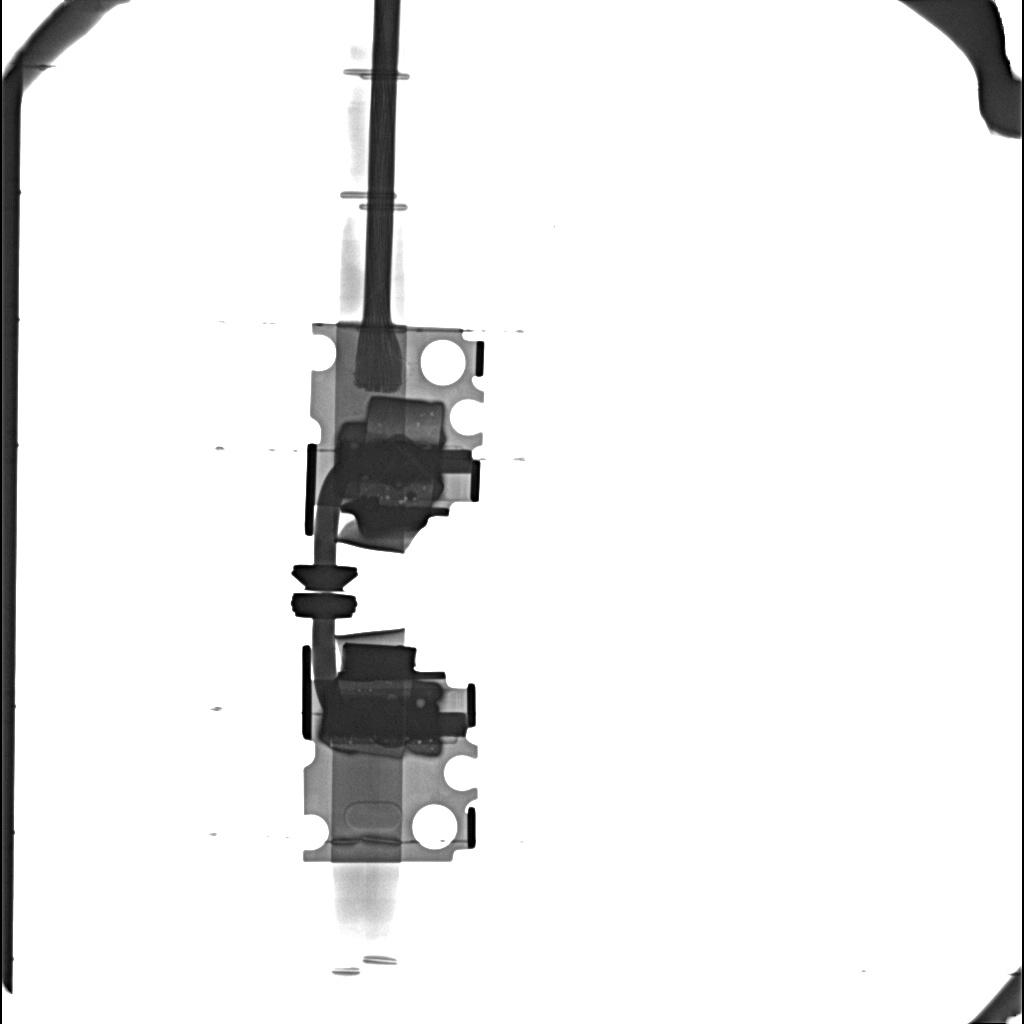PX: (366, 395, 444, 443), (328, 740, 407, 761)
SX: (321, 695, 437, 739), (336, 441, 439, 486)
